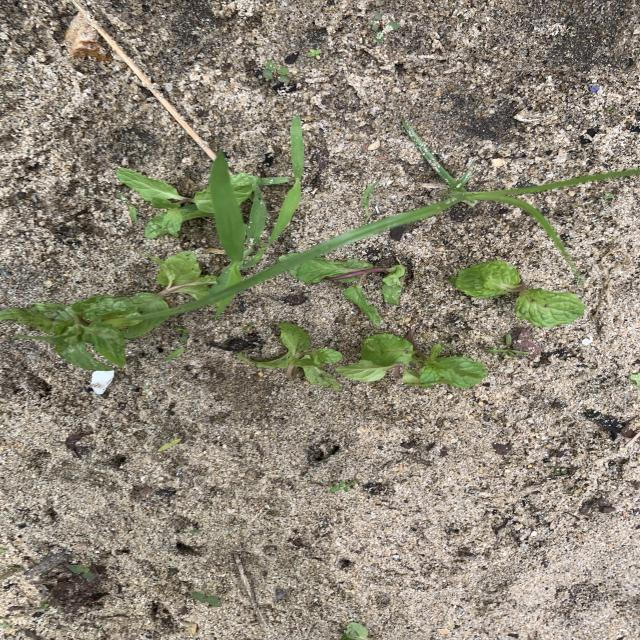crop: (0, 293, 159, 371), (450, 260, 585, 328), (337, 334, 487, 388), (238, 322, 342, 391), (116, 169, 214, 238), (289, 257, 405, 305), (150, 251, 217, 299), (343, 280, 379, 321), (230, 173, 257, 204)
weed: (446, 168, 640, 268), (263, 129, 304, 247), (208, 152, 245, 263), (346, 203, 447, 243), (212, 262, 250, 290), (247, 198, 267, 239)
